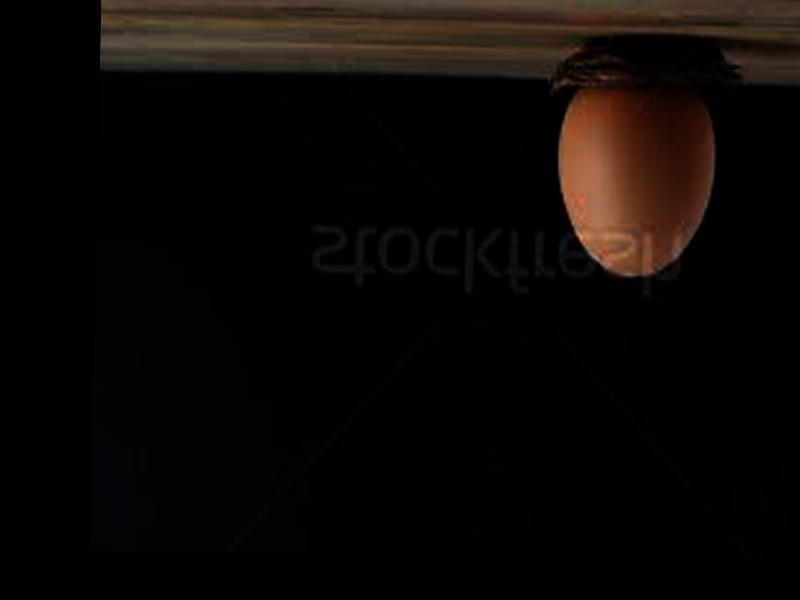Eggs: (558, 81, 719, 277)
